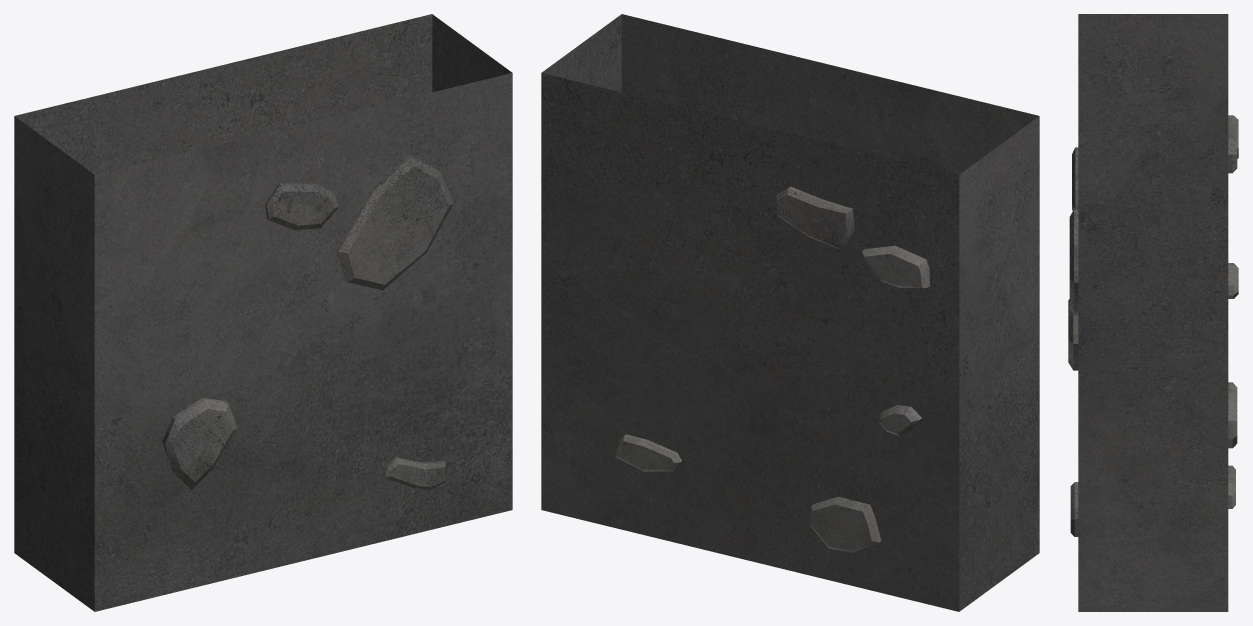
Rendered from Wall_thick2.fbx.
3 renders of one model, left to right at view 1: azimuth 30°, elevation 25°; view 2: azimuth 150°, elevation 25°; view 3: azimuth 270°, elevation 25°, orthographic. The views are drawn at different scales.
Parts seen in each view (by area): view 1: Wall_thick2; view 2: Wall_thick2; view 3: Wall_thick2.
Boxes of the visible parts, box(x1,y1,x2,y2) form: Wall_thick2: box(14, 14, 512, 611); Wall_thick2: box(541, 14, 1039, 611); Wall_thick2: box(1068, 14, 1238, 611).
Size of the model in its own units: 3 by 3 by 1.14.
Materials: 1 (1 with a texture image).
